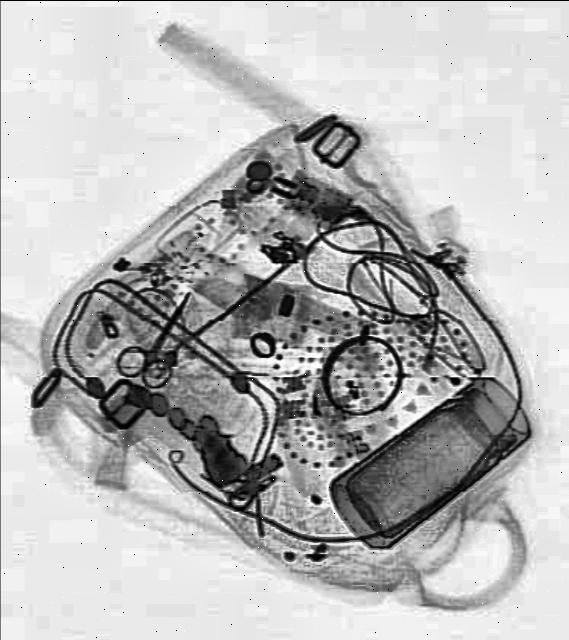Scissors: (108, 280, 210, 400)
